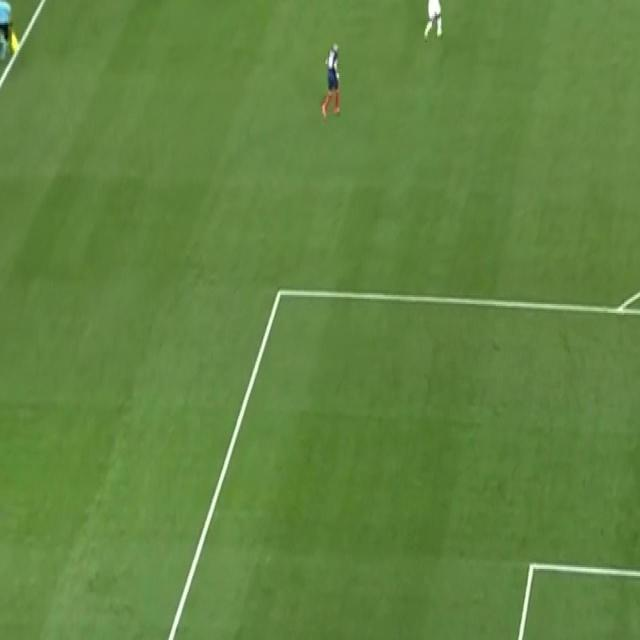player-white: (322, 38, 342, 122), (419, 0, 457, 41), (0, 0, 15, 68)
